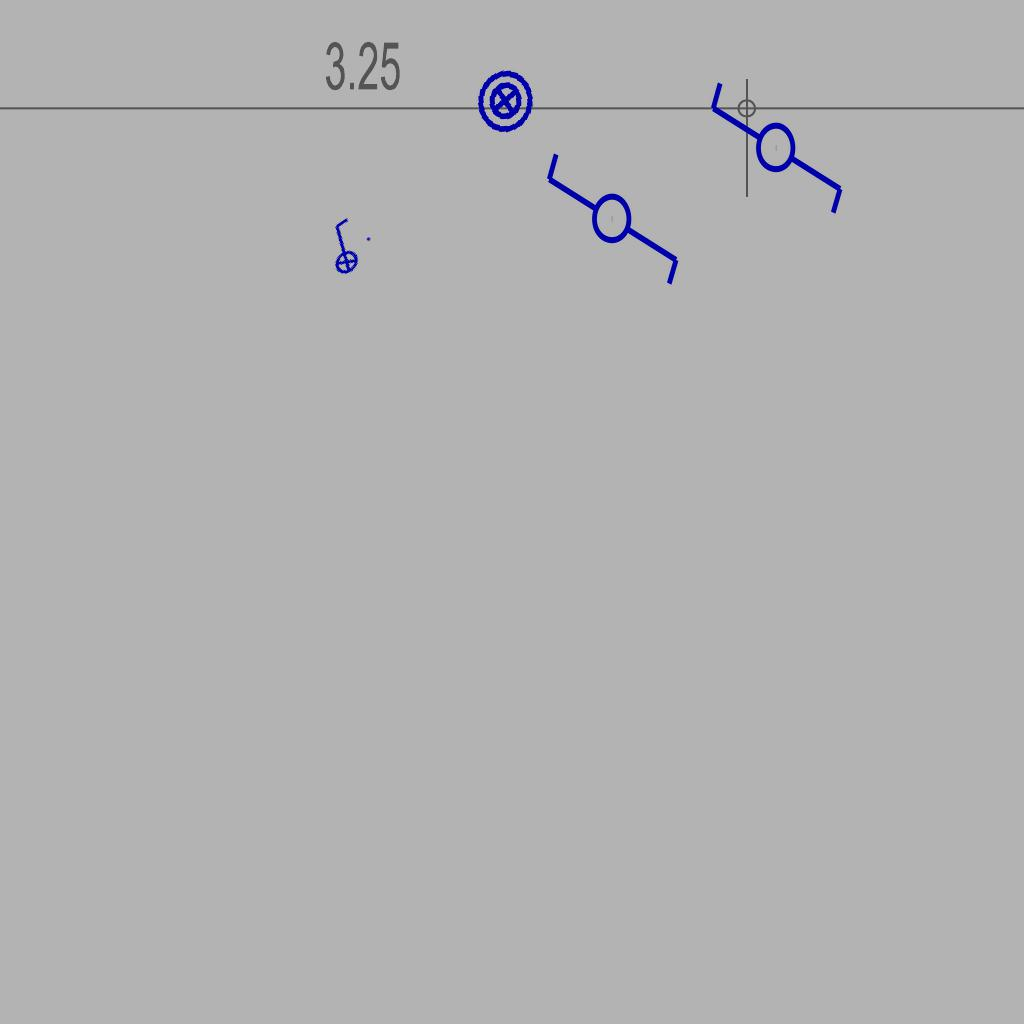Ausschalter_beleuchtet: (306, 210, 380, 284)
Taster_beleuchtet: (467, 63, 543, 139)
Wechselschalter: (542, 132, 686, 289), (706, 61, 850, 218)
